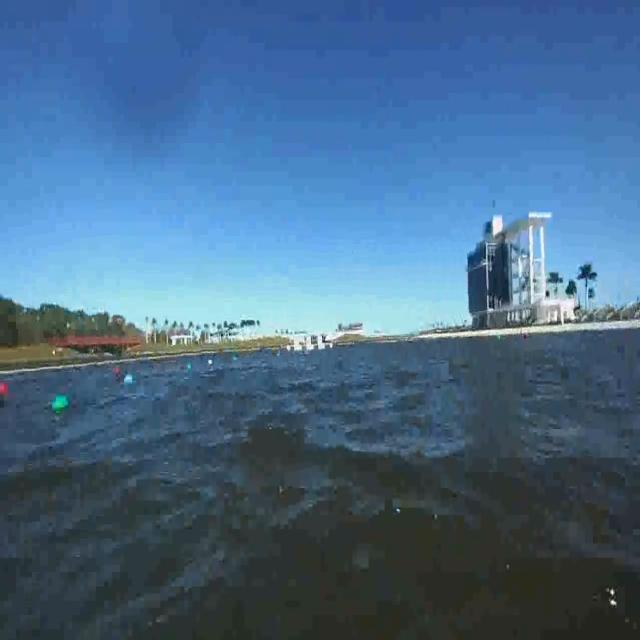green-buoy: (54, 398, 72, 415)
red-buoy: (0, 383, 9, 396)
